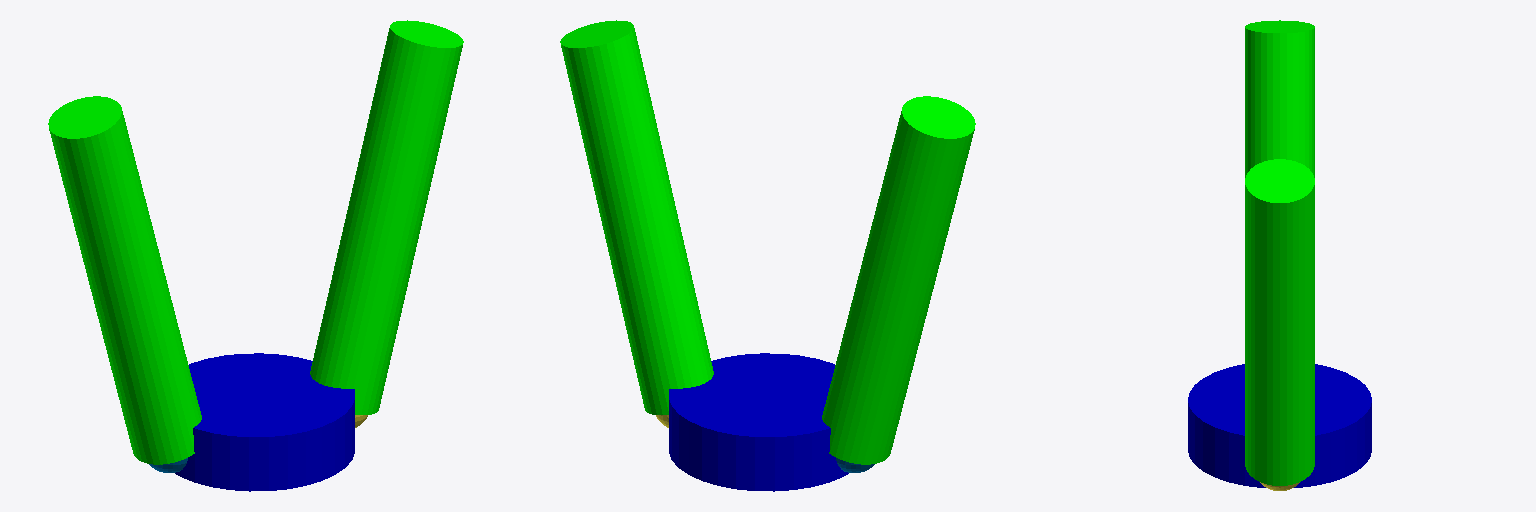
The robot description file, URDF, robot "gripper_2f_1j":
<?xml version='1.0' encoding='UTF-8'?>
<robot name="gripper_2f_1j">
  <link name="palm">
    <inertial>
      <origin xyz="0.0 0.0 0.0" rpy="0.0 -0.0 0.0"/>
      <mass value="1.0"/>
      <inertia ixx="1.0" ixy="0.0" ixz="0.0" iyy="1.0" iyz="0.0" izz="1.0"/>
    </inertial>
    <visual>
      <geometry>
        <cylinder radius="0.05" length="0.03"/>
      </geometry>
      <material name="blue"/>
      <origin xyz="0.0 0.0 0.0" rpy="0.0 -0.0 0.0"/>
    </visual>
    <collision>
      <geometry>
        <cylinder radius="0.05" length="0.03"/>
      </geometry>
      <origin xyz="0.0 0.0 0.0" rpy="0.0 0.0 0.0"/>
    </collision>
  </link>
  <link name="f11">
    <inertial>
      <origin xyz="0.0 0.0 0.0" rpy="0.0 -0.0 0.0"/>
      <mass value="1.0"/>
      <inertia ixx="1.0" ixy="0.0" ixz="0.0" iyy="1.0" iyz="0.0" izz="1.0"/>
    </inertial>
    <visual>
      <geometry>
        <cylinder radius="0.01899292455135356" length="0.1981063851141041"/>
      </geometry>
      <material name="green"/>
      <origin xyz="0.0 0.0 0.09905319255705206" rpy="0.0 -0.0 0.0"/>
    </visual>
    <collision>
      <geometry>
        <cylinder radius="0.01899292455135356" length="0.1981063851141041"/>
      </geometry>
      <origin xyz="0.0 0.0 0.05" rpy="0.0 0.0 0.0"/>
    </collision>
  </link>
  <link name="f21">
    <inertial>
      <origin xyz="0.0 0.0 0.0" rpy="0.0 -0.0 0.0"/>
      <mass value="1.0"/>
      <inertia ixx="1.0" ixy="0.0" ixz="0.0" iyy="1.0" iyz="0.0" izz="1.0"/>
    </inertial>
    <visual>
      <geometry>
        <cylinder radius="0.01899292455135356" length="0.1981063851141041"/>
      </geometry>
      <material name="green"/>
      <origin xyz="0.0 0.0 0.09905319255705206" rpy="0.0 -0.0 0.0"/>
    </visual>
    <collision>
      <geometry>
        <cylinder radius="0.01899292455135356" length="0.1981063851141041"/>
      </geometry>
      <origin xyz="0.0 0.0 0.05" rpy="0.0 0.0 0.0"/>
    </collision>
  </link>
  <link name="f11_base">
    <inertial>
      <origin xyz="0.0 0.0 0.0" rpy="0.0 -0.0 0.0"/>
      <mass value="1.0"/>
      <inertia ixx="1.0" ixy="0.0" ixz="0.0" iyy="1.0" iyz="0.0" izz="1.0"/>
    </inertial>
    <visual>
      <geometry>
        <sphere radius="0.015"/>
      </geometry>
      <origin xyz="0.0 0.0 0.0" rpy="0.0 -0.0 0.0"/>
    </visual>
  </link>
  <link name="f21_base">
    <inertial>
      <origin xyz="0.0 0.0 0.0" rpy="0.0 -0.0 0.0"/>
      <mass value="1.0"/>
      <inertia ixx="1.0" ixy="0.0" ixz="0.0" iyy="1.0" iyz="0.0" izz="1.0"/>
    </inertial>
    <visual>
      <geometry>
        <sphere radius="0.015"/>
      </geometry>
      <origin xyz="0.0 0.0 0.0" rpy="0.0 -0.0 0.0"/>
    </visual>
  </link>
  <joint name="f11_joint" type="revolute">
    <dynamics damping="100.0" friction="1.0"/>
    <limit effort="30.0" velocity="2.0" lower="-0.6" upper="0.25"/>
    <parent link="f11_base"/>
    <child link="f11"/>
    <axis xyz="0. 1. 0."/>
    <origin xyz="0.0 0.0 0.0" rpy="0.0 0.25 0.0"/>
  </joint>
  <joint name="f21_joint" type="revolute">
    <dynamics damping="100.0" friction="1.0"/>
    <limit effort="30.0" velocity="2.0" lower="-0.6" upper="0.25"/>
    <parent link="f21_base"/>
    <child link="f21"/>
    <axis xyz=" 0. -1.  0."/>
    <origin xyz="0.0 0.0 0.0" rpy="0.0 -0.25 0.0"/>
  </joint>
  <joint name="f11_base_joint" type="fixed">
    <parent link="palm"/>
    <child link="f11_base"/>
    <axis xyz="1. 0. 0."/>
    <origin xyz="0.05 0.0 0.0" rpy="0.0 0.0 0.0"/>
  </joint>
  <joint name="f21_base_joint" type="fixed">
    <parent link="palm"/>
    <child link="f21_base"/>
    <axis xyz="1. 0. 0."/>
    <origin xyz="-0.05 -0.0 0.0" rpy="0.0 0.0 0.0"/>
  </joint>
  <material name="blue">
    <color rgba="0.  0.  0.8 1. "/>
  </material>
  <material name="green">
    <color rgba="0. 1. 0. 1."/>
  </material>
</robot>

--- Render facts (derived) ---
Views: 3 orthographic renders of the robot side by side, from view 1: azimuth 30°, elevation 25°; view 2: azimuth 150°, elevation 25°; view 3: azimuth 270°, elevation 25°.
Robot: gripper_2f_1j — 5 links, 4 joints (2 revolute, 2 fixed); root link palm; default pose: all joints at 0.
Links seen in each view (by area): view 1: f11, f21, palm; view 2: f11, f21, palm; view 3: f11, palm, f21.
Boxes of the visible links, x1,y1,x2,y2 form: f11: (310, 20, 463, 414); f21: (48, 96, 201, 464); palm: (175, 353, 354, 491); f11: (560, 20, 713, 414); f21: (822, 96, 975, 464); palm: (669, 353, 848, 491); f11: (1245, 159, 1314, 485); palm: (1188, 364, 1371, 487); f21: (1245, 20, 1314, 177).
Size in the robot's own frame: 0.2348 by 0.1 by 0.2116 metres.
Geometry: primitives only (box / cylinder / sphere), no mesh files.